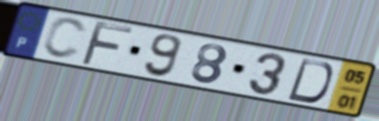3: (245, 51, 288, 97)
8: (190, 43, 230, 86)
9: (143, 33, 184, 79)
C: (40, 16, 89, 61)
D: (285, 56, 336, 105)
F: (78, 18, 135, 68)
